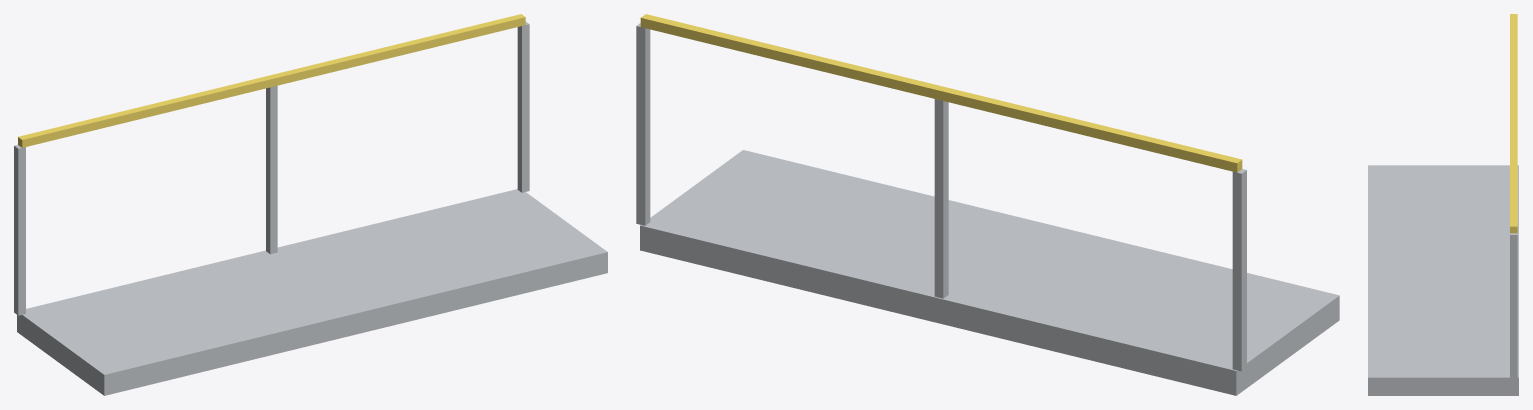
The model's file is mech-hangar-and-battle-frames-catwalk-b5d12c7e__26940.glb.
3 renders of one model, left to right at view 1: azimuth 30°, elevation 25°; view 2: azimuth 150°, elevation 25°; view 3: azimuth 270°, elevation 25°, orthographic. The views are drawn at different scales.
Parts seen in each view (by area): view 1: catwalk; view 2: catwalk; view 3: catwalk.
Boxes of the visible parts, <box> form: catwalk: <box>14,14,607,395</box>; catwalk: <box>636,14,1339,395</box>; catwalk: <box>1368,14,1518,395</box>.
Bounding box in the file's own units: 3.05 × 1.11 × 0.9.
